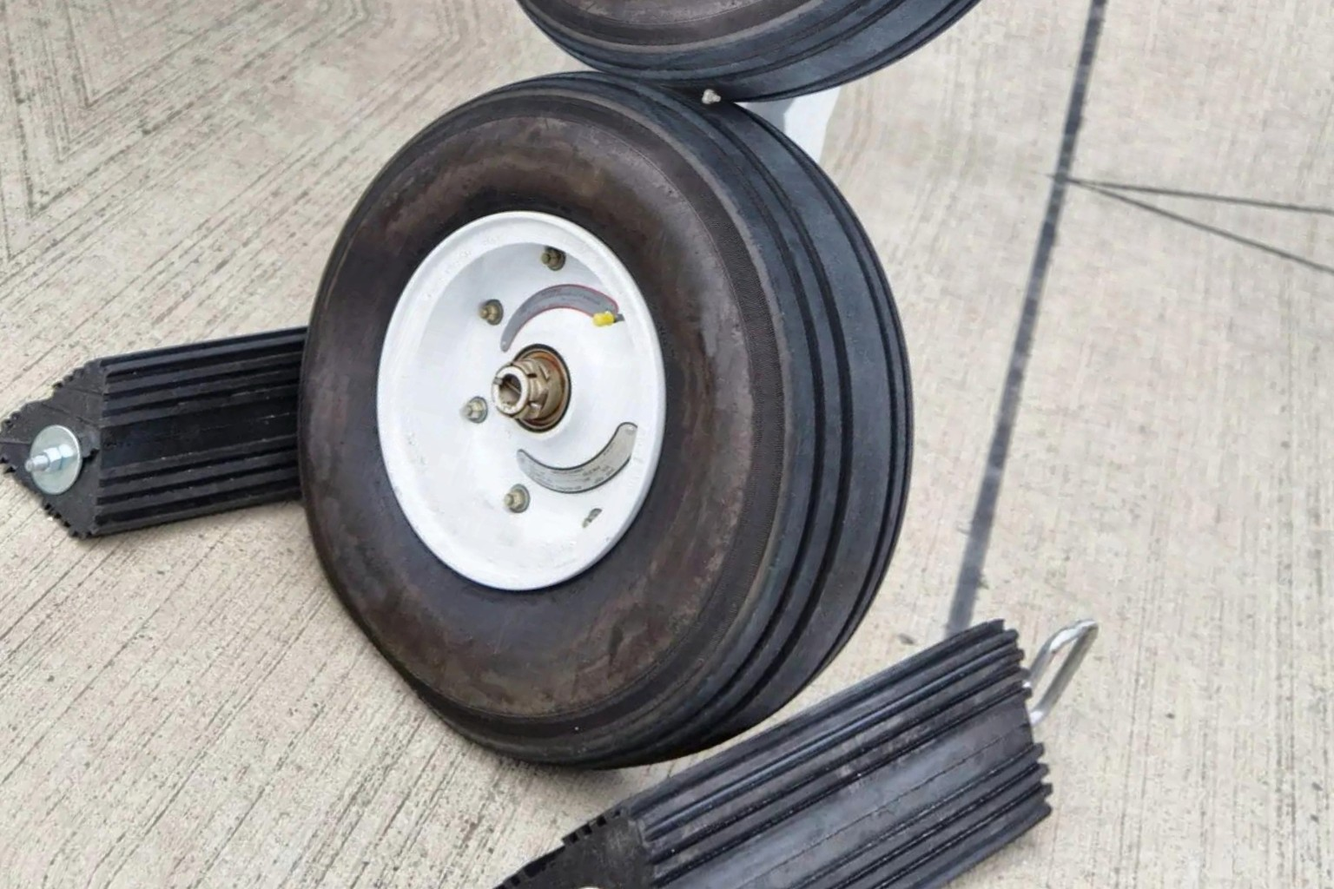chock: (449, 509, 1105, 889), (0, 250, 499, 629)
wheel: (117, 27, 1011, 858), (402, 0, 1150, 164)
